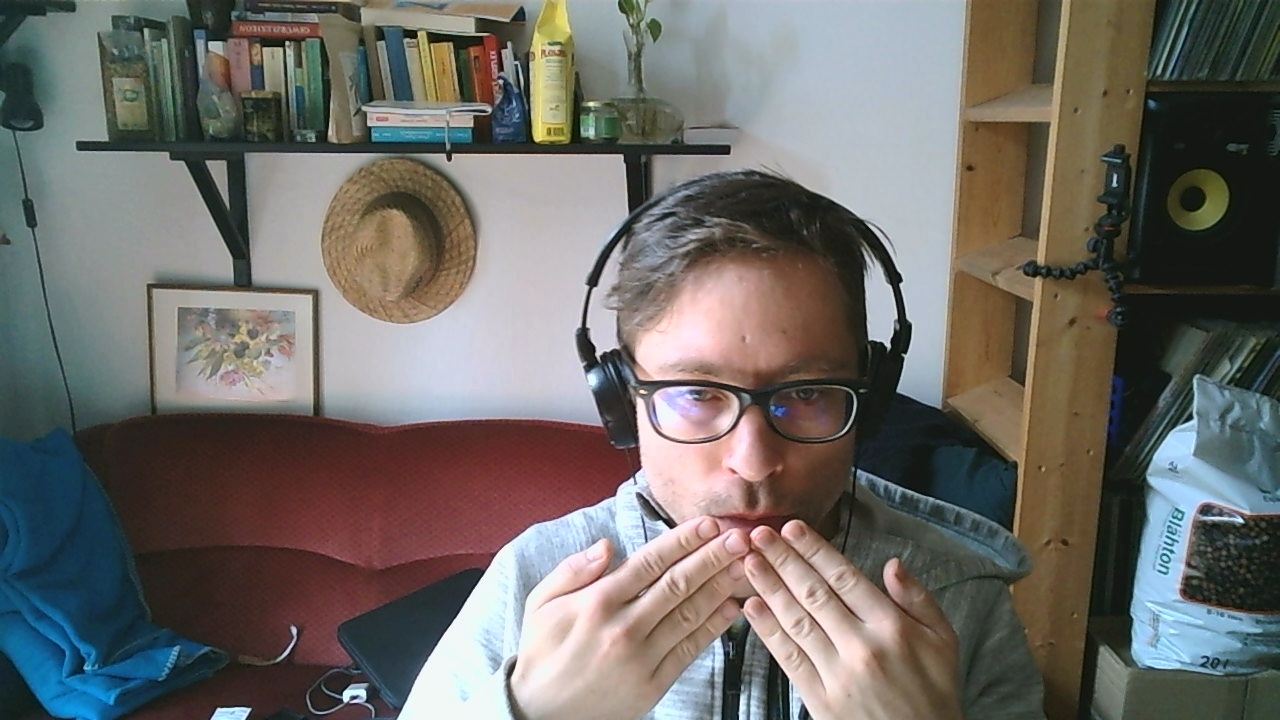thanks: (517, 504, 963, 720)
